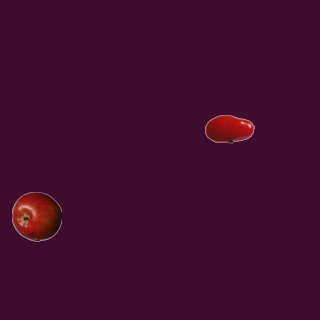Apple Braeburn: (11, 191, 61, 241)
Tomato 2: (204, 103, 254, 153)
